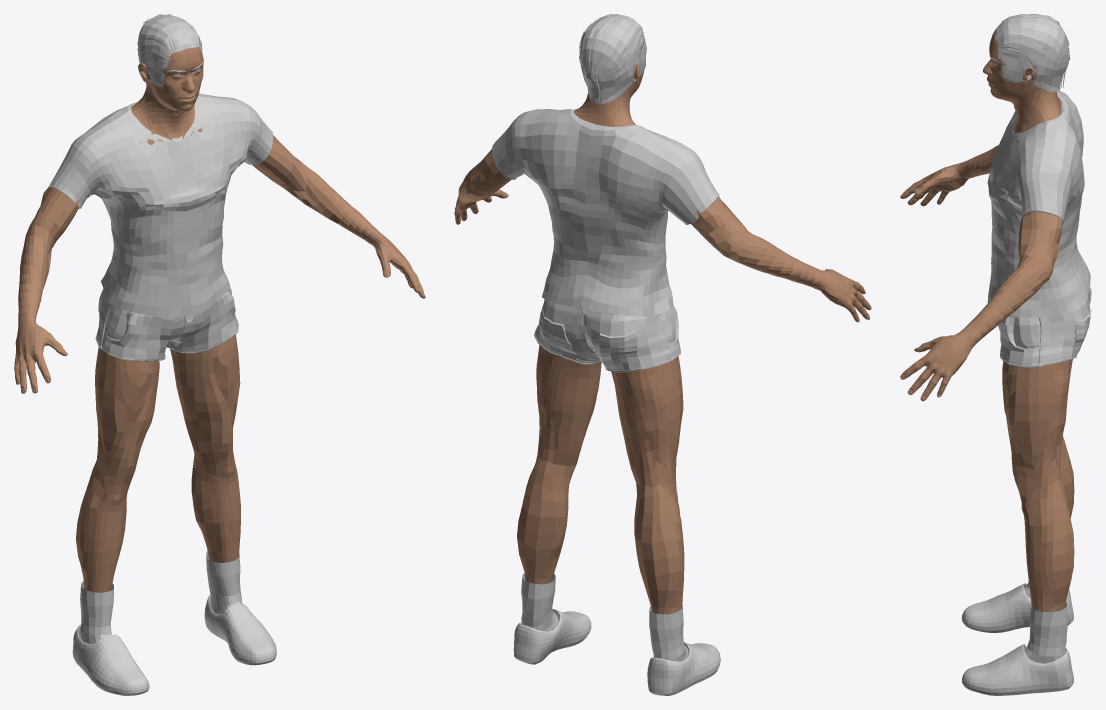
File: modelado-ciclista-blender.obj
The picture shows the model from 3 angles, left to right: view 1: azimuth 30°, elevation 25°; view 2: azimuth 150°, elevation 25°; view 3: azimuth 270°, elevation 25°; orthographic projection.
Visible parts, largest first — view 1: ciclista; view 2: ciclista; view 3: ciclista.
Boxes of the visible parts, x1,y1,x2,y2 form: ciclista: (14, 14, 425, 695); ciclista: (454, 14, 871, 695); ciclista: (900, 14, 1091, 695).
Size of the model in its own units: 1.34 by 2.04 by 0.5526.
